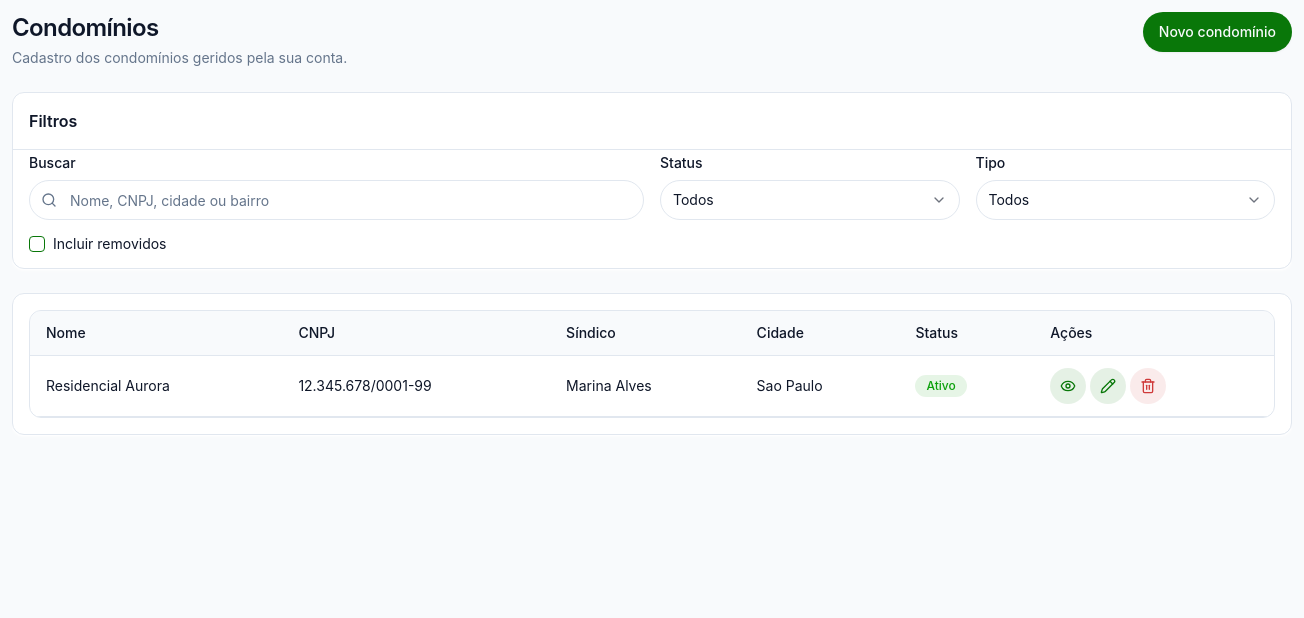
Test: Listagem de condomínios › IT-003: busca sem resultado oferece limpar a busca
This screenshot has width=1304, height=618.
Check: the text "Residencial Aurora" is shown, box [46,376,170,396]
Type "inexistente" into the field labelled "Buscar". click: point(336, 200)
box: [29,180,644,220]
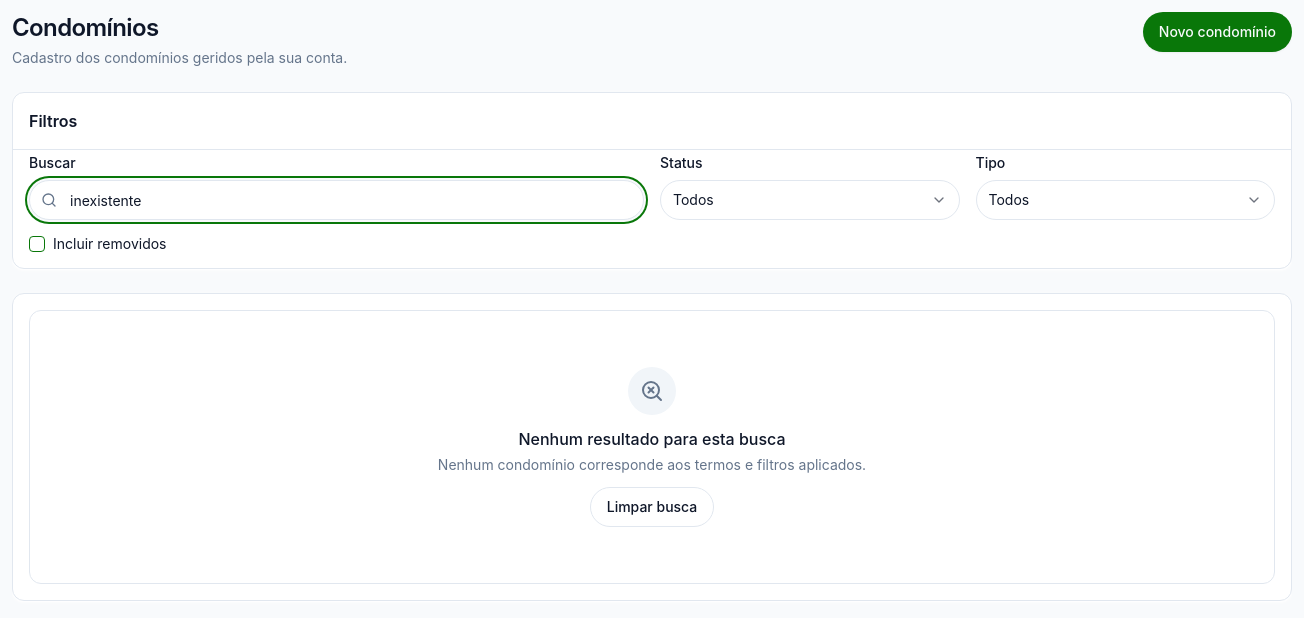
Check: the text "Nenhum resultado para esta busca" is shown, box [518,429,786,449]
Check: the button "Limpar busca" is shown, box [590,487,714,527]
